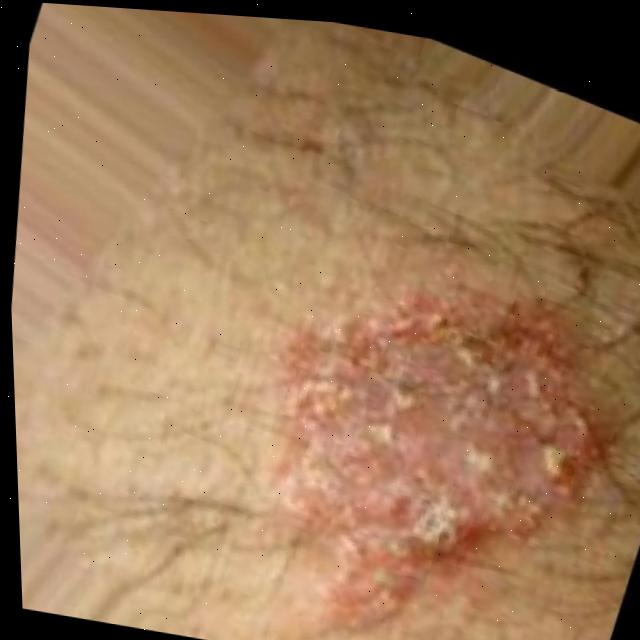Eczema: (248, 255, 585, 602)
